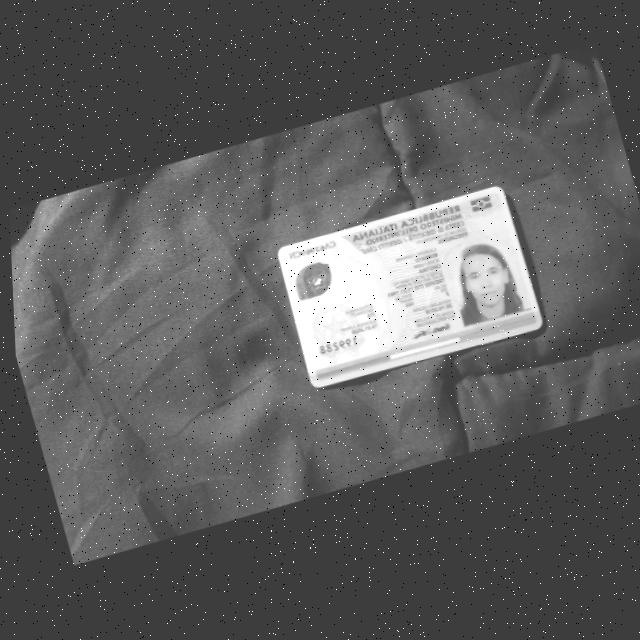card: (278, 187, 541, 387)
